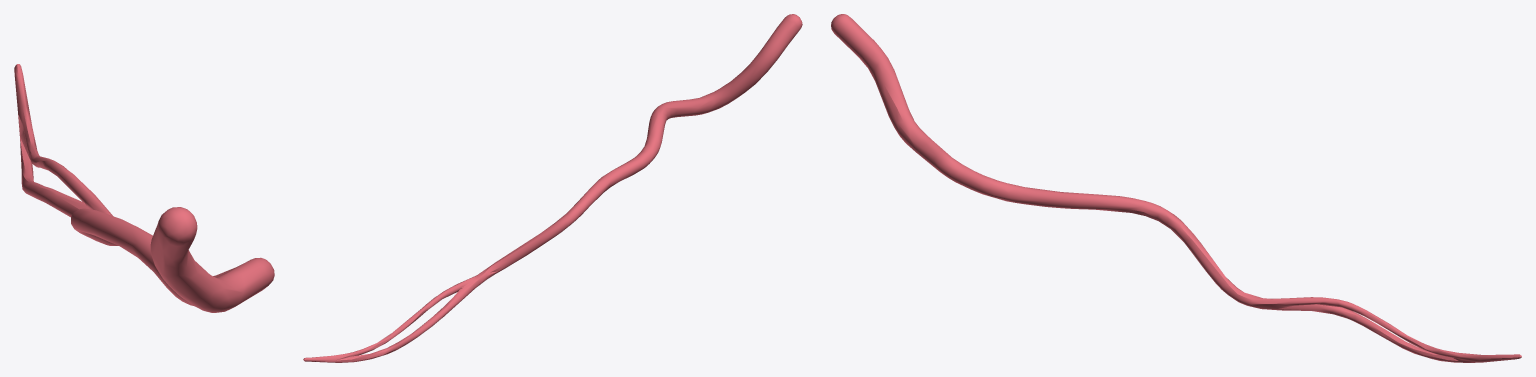
The model's file is fma50681_fj1680m.glb.
The picture shows the model from 3 angles, left to right: view 1: azimuth 30°, elevation 25°; view 2: azimuth 150°, elevation 25°; view 3: azimuth 270°, elevation 25°; orthographic projection. The views are drawn at different scales.
Visible parts, largest first — view 1: FMA50681_FJ1680M; view 2: FMA50681_FJ1680M; view 3: FMA50681_FJ1680M.
Part boxes in pixels (box(x1,y1,x2,y2)): FMA50681_FJ1680M: box(14, 64, 274, 312); FMA50681_FJ1680M: box(303, 14, 802, 362); FMA50681_FJ1680M: box(831, 14, 1521, 362).
Bounding box in the file's own units: 0.0184 × 0.0168 × 0.0431.
